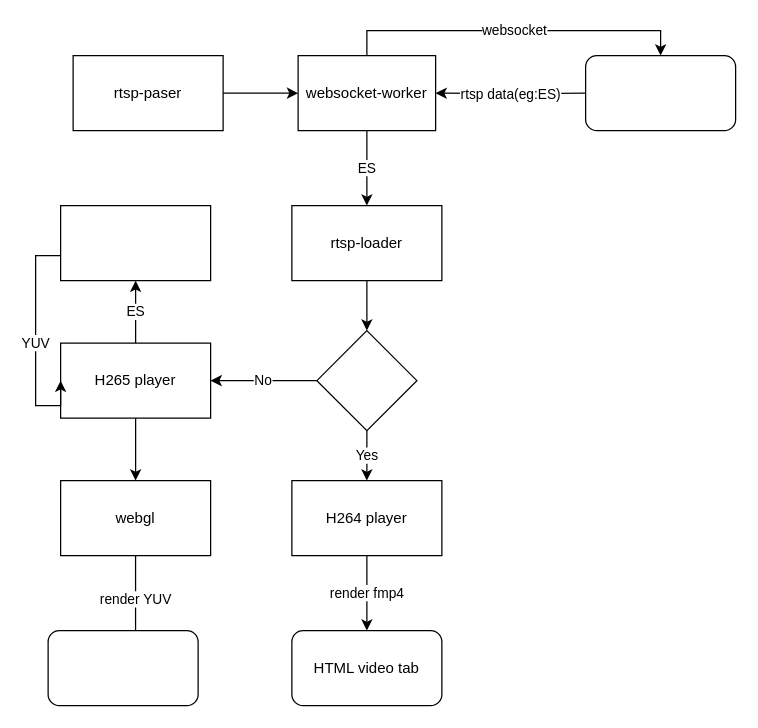
Image size: 758x728. Some labels were removed from this diagram. Here are the shapes that lost their labels. From the top down, the centre of each, then its label:
point (660, 92): stream media
point (135, 242): ffmpeg-worker
point (366, 380): is H264?
point (122, 667): HTML canvas
